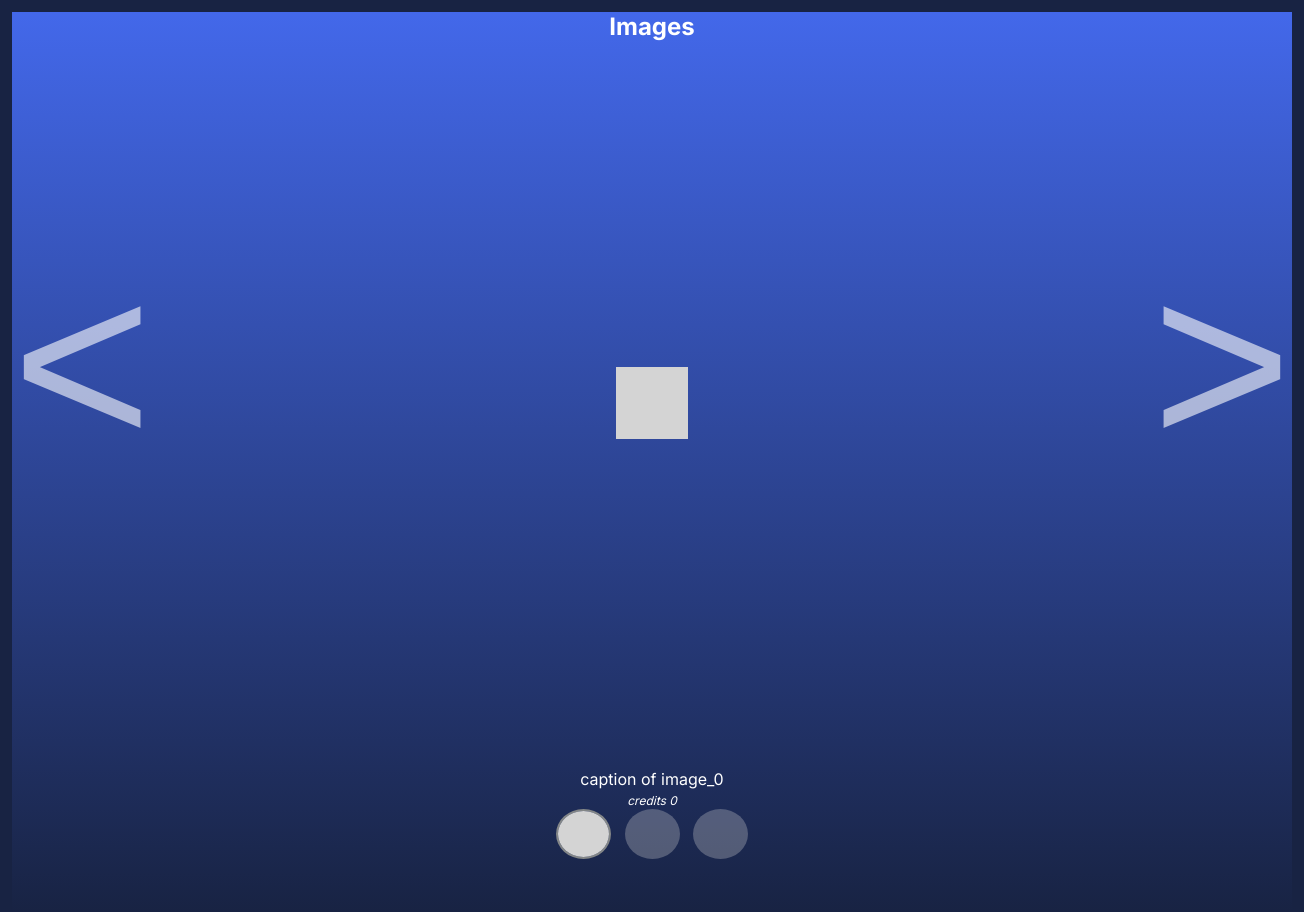
Test: imageCarousel component › Switches displayed image to the right when clicking on the right arrow
The width and height of the screenshot is (1304, 912).
What coordinates should you click on to do the following:
click the button ">"
I would click on:
 (1222, 362)
Its box is left=1152, top=224, right=1292, bottom=500.
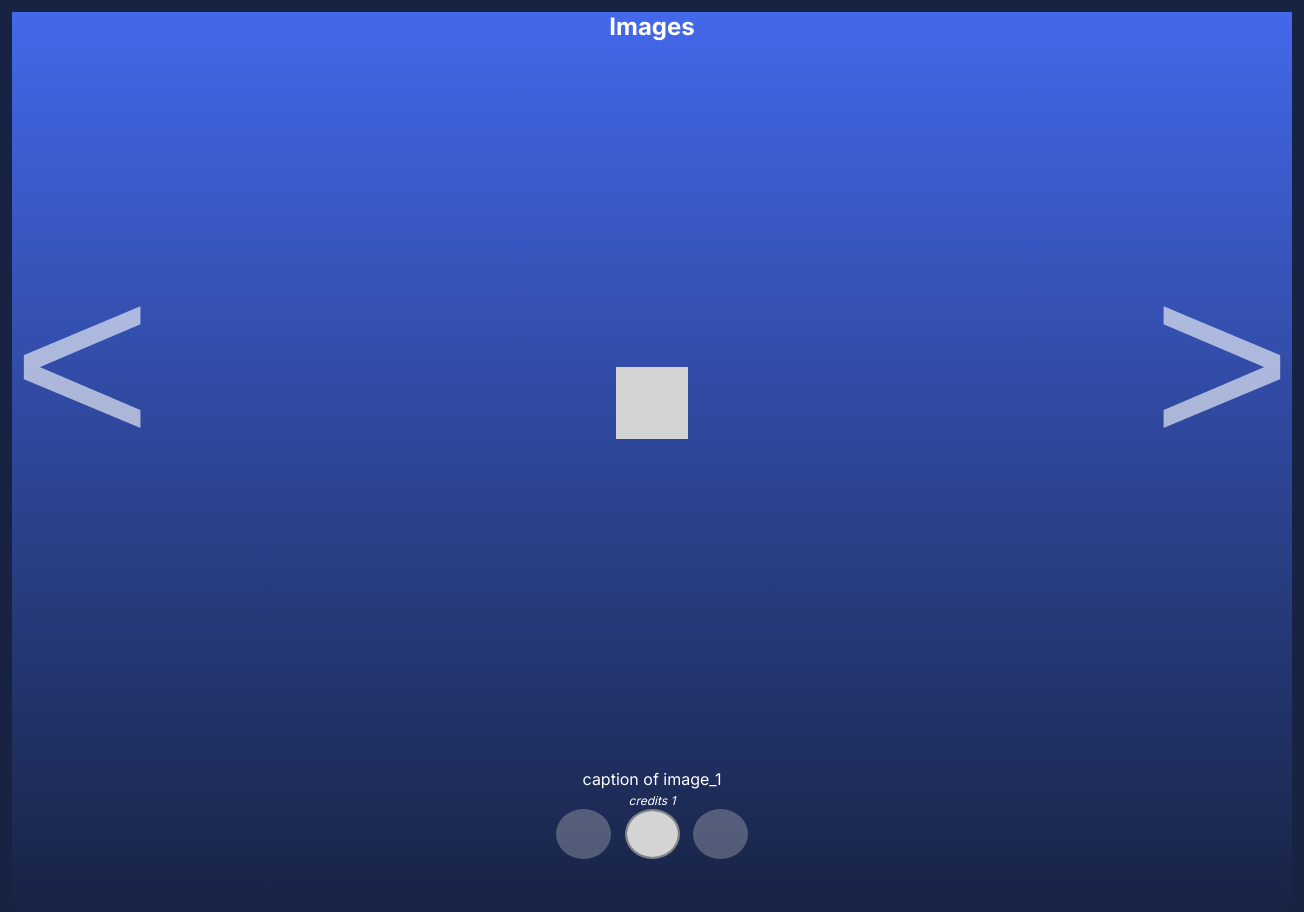
Now the element with test id "currentSlide" shows "caption of image_1", box left=583, top=769, right=721, bottom=789
What coordinates should you click on to do the following:
click the button ">"
I would click on:
 (1222, 362)
Its box is left=1152, top=224, right=1292, bottom=500.
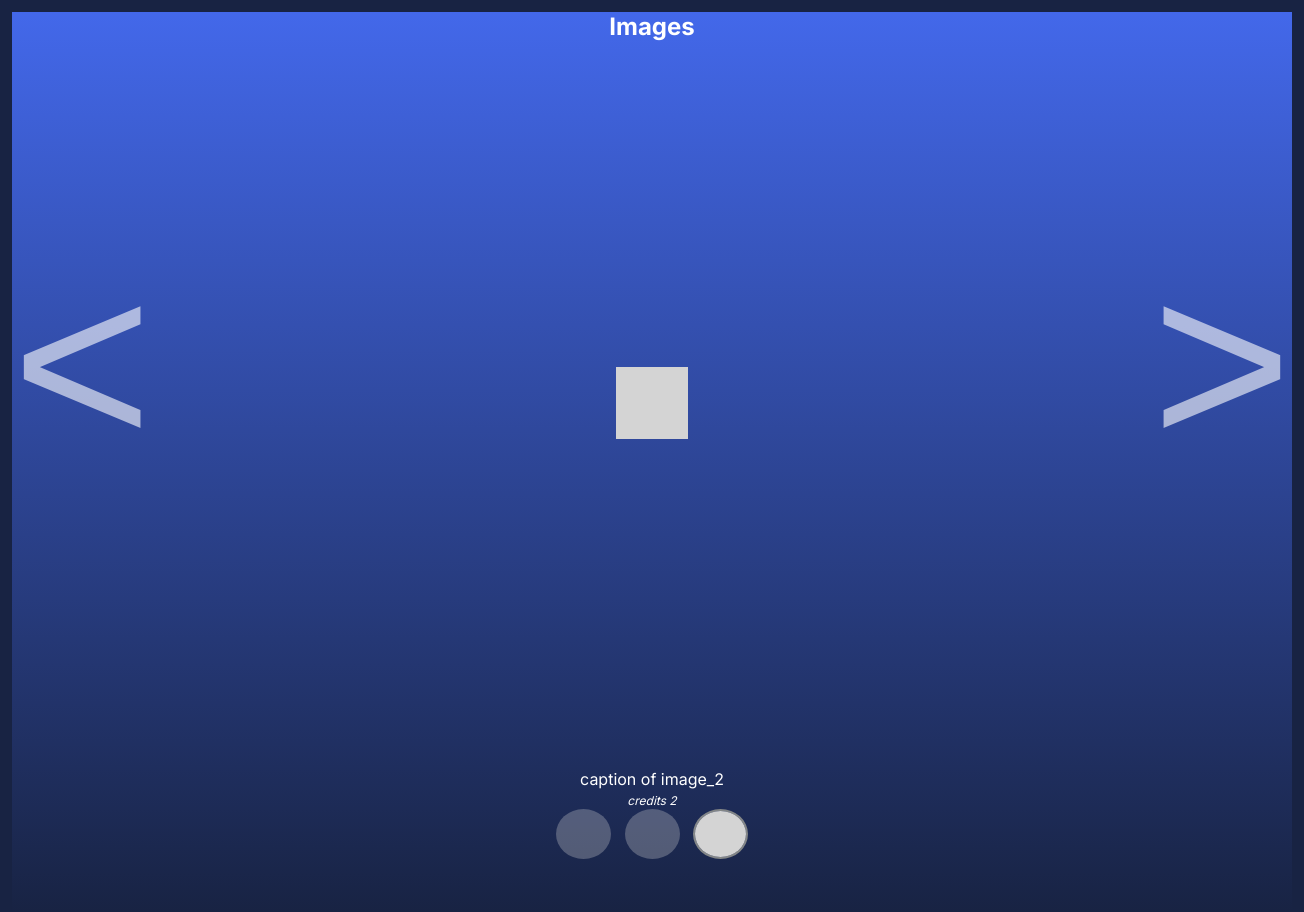
Now the element with test id "currentSlide" shows "caption of image_2", box left=580, top=769, right=724, bottom=789
What coordinates should you click on to do the following:
click the button ">"
I would click on:
 (1222, 362)
Its box is left=1152, top=224, right=1292, bottom=500.
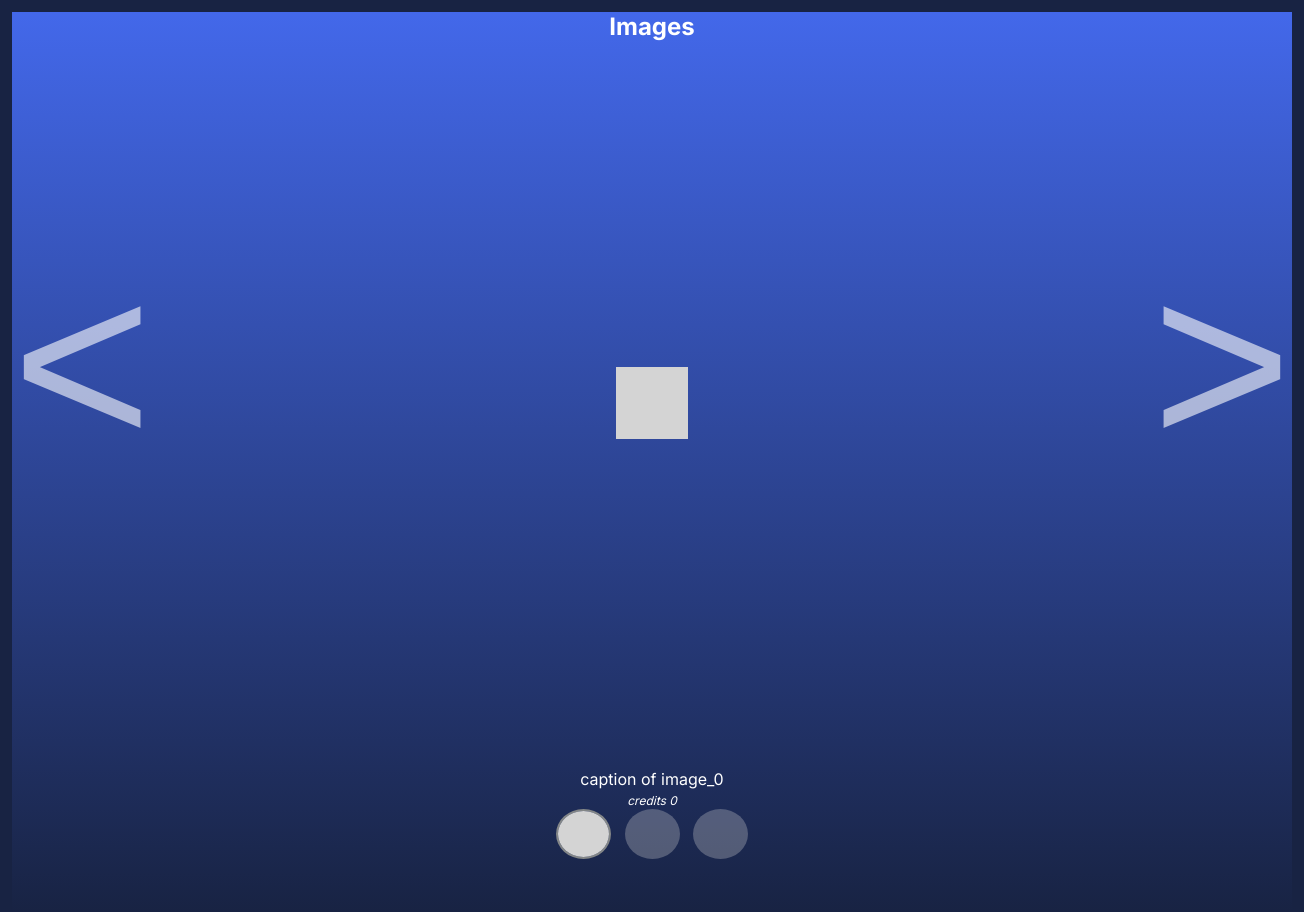
Now the element with test id "currentSlide" shows "caption of image_0", box left=580, top=769, right=724, bottom=789
